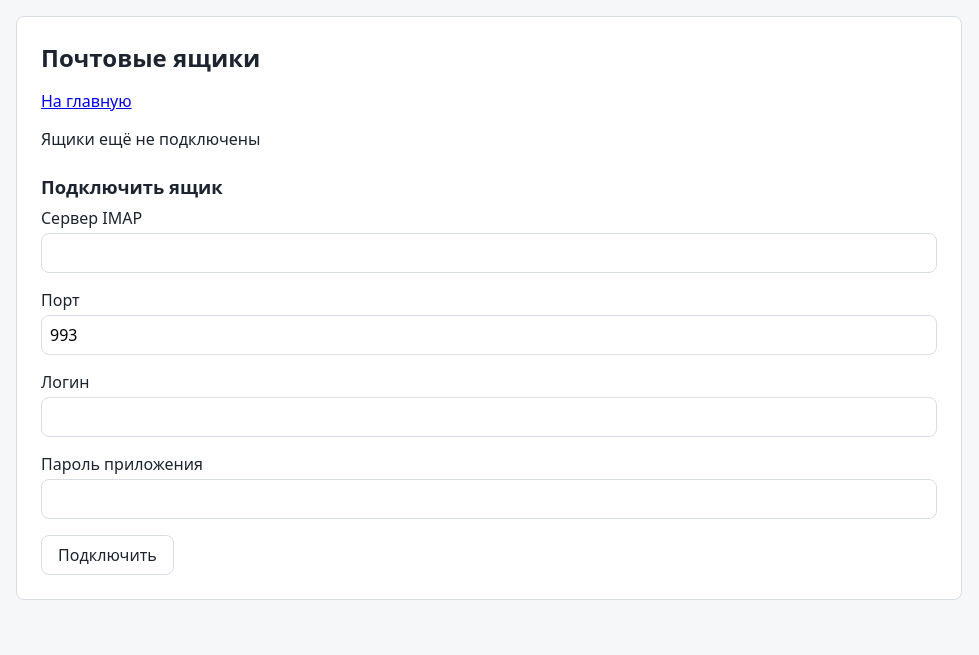
it: mailboxes page: connect form › FR-22 «Unreachable server»: nothing is saved and the form shows the unreachable refusal
Check: the text "Ящики ещё не подключены" is shown, box left=41, top=128, right=260, bottom=150
Type "imap.nowhere.test" into the field labelled "Сервер IMAP" at (489, 253), box left=41, top=233, right=937, bottom=273
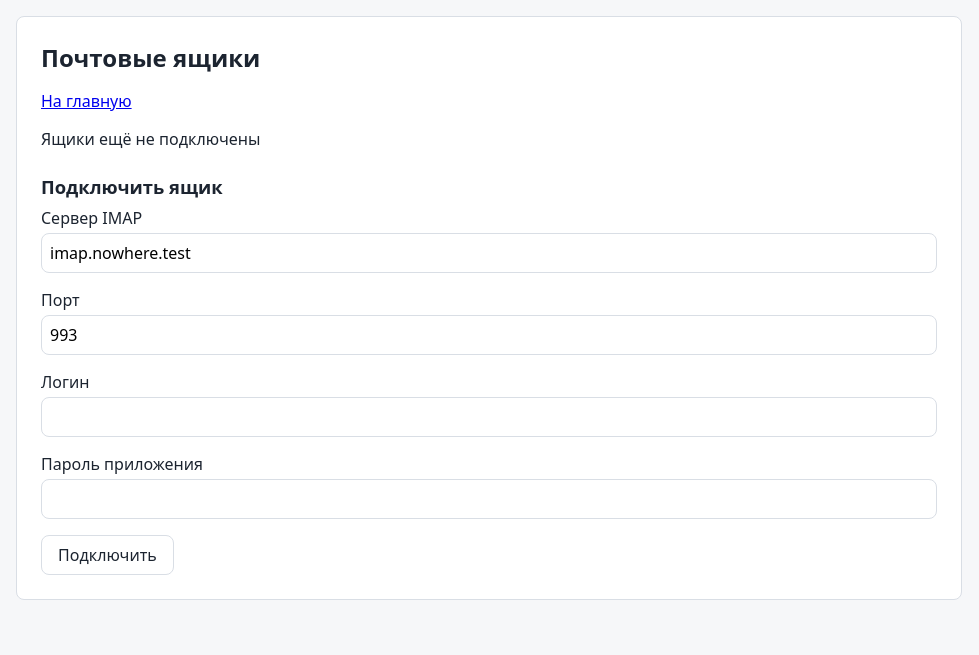
Type "anna@yandex.ru" into the field labelled "Логин" at (489, 417), box left=41, top=397, right=937, bottom=437
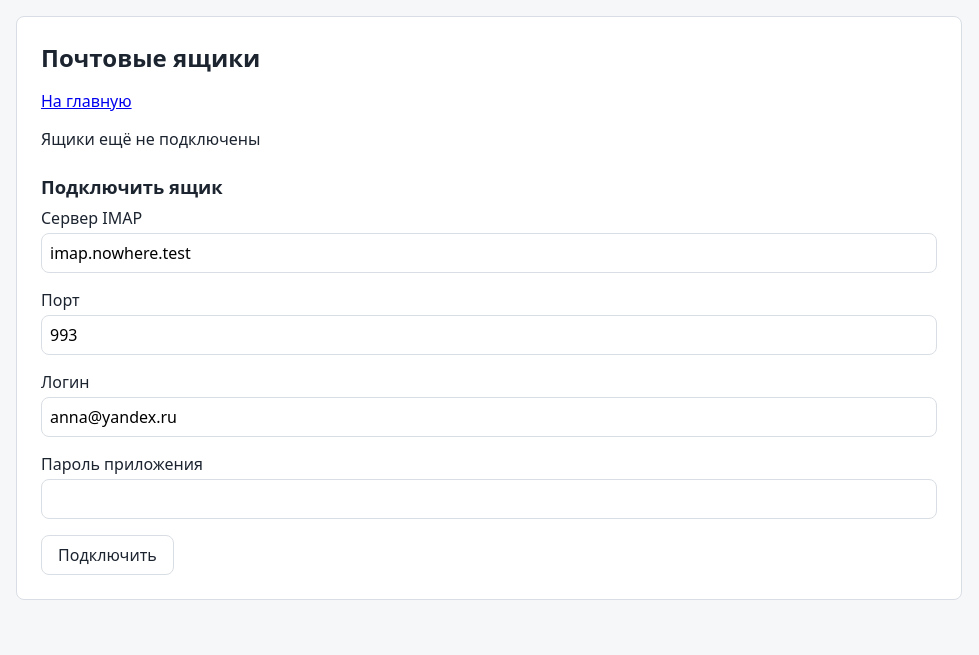
Type "wrong-pass-1" into the password field labelled "Пароль приложения" at (489, 499), box left=41, top=479, right=937, bottom=519
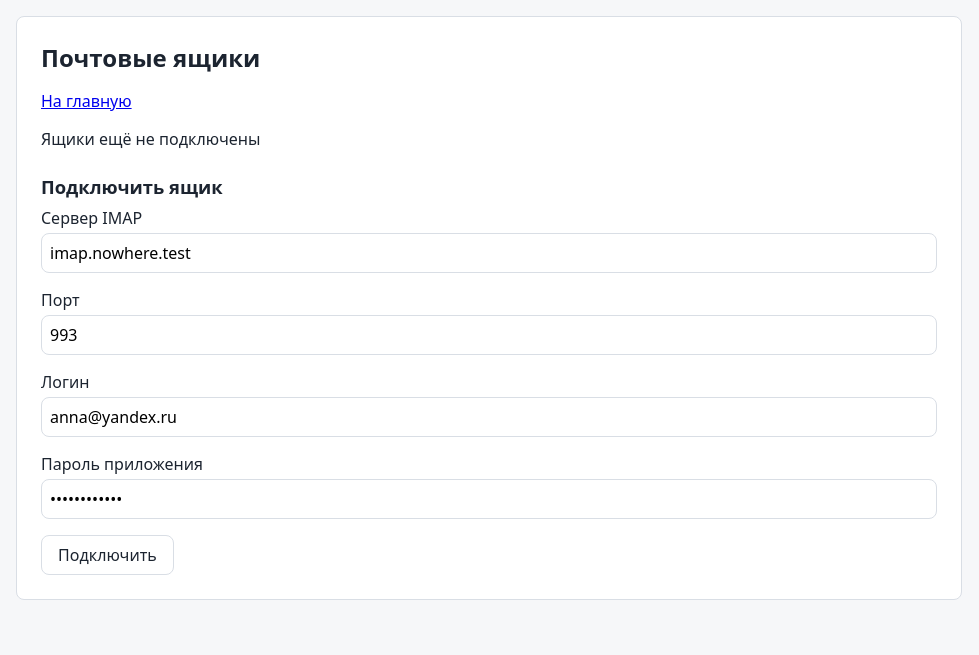
Click the button "Подключить" at (107, 555), box left=41, top=535, right=174, bottom=575
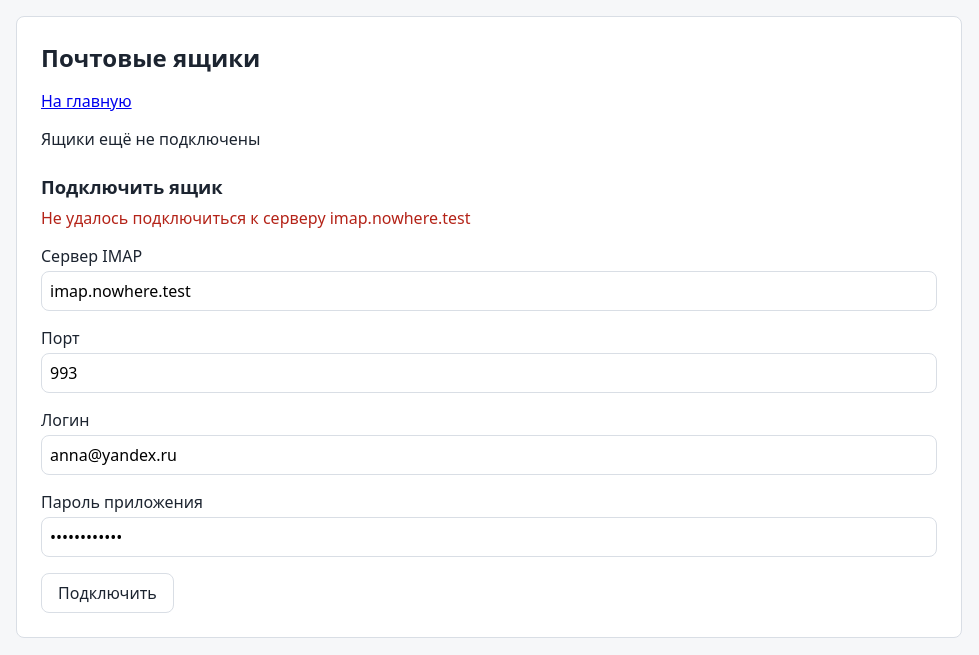
Check: the text "Ящики ещё не подключены" is shown, box left=41, top=128, right=260, bottom=150
Check: the text "Не удалось подключиться к серверу imap.nowhere.test" is shown, box left=41, top=207, right=470, bottom=229
